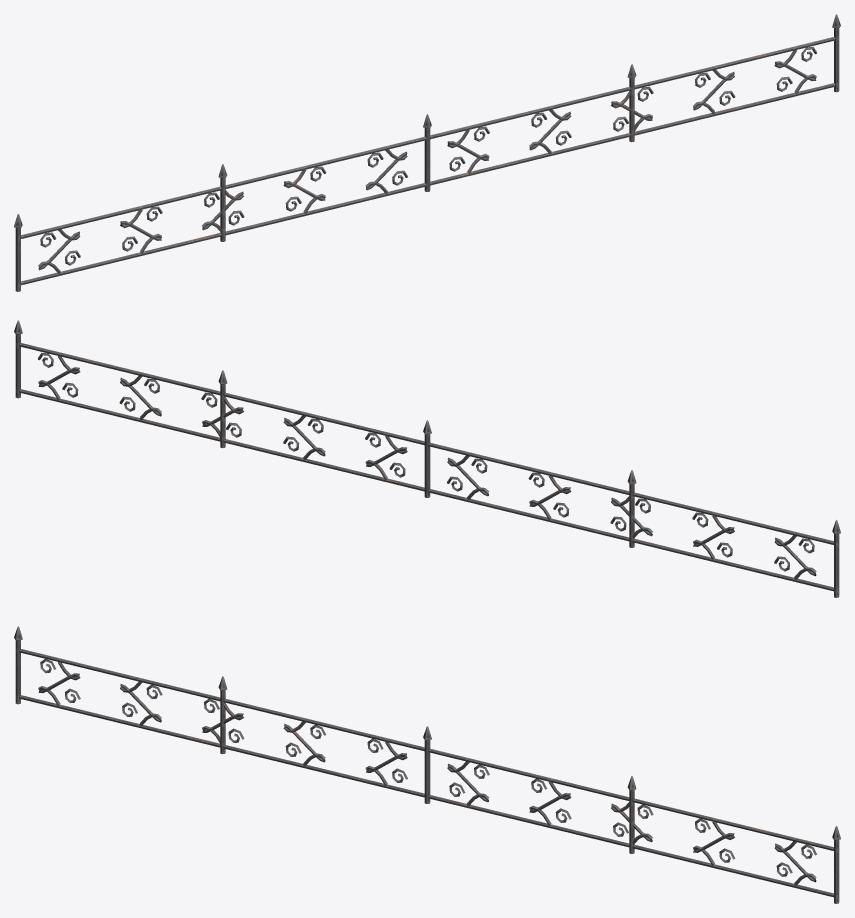
File: PathEdgingIron.fbx
The picture shows the model from 3 angles, top to bottom: view 1: azimuth 30°, elevation 25°; view 2: azimuth 150°, elevation 25°; view 3: azimuth 330°, elevation 25°; orthographic projection.
Parts seen in each view (by area): view 1: PathEdgingIron; view 2: PathEdgingIron; view 3: PathEdgingIron.
Part boxes in pixels (bbox=[...]): PathEdgingIron: bbox=[14, 14, 840, 291]; PathEdgingIron: bbox=[14, 320, 840, 597]; PathEdgingIron: bbox=[14, 626, 840, 903].
Bounding box in the file's own units: 1011 × 90.06 × 10.51.
